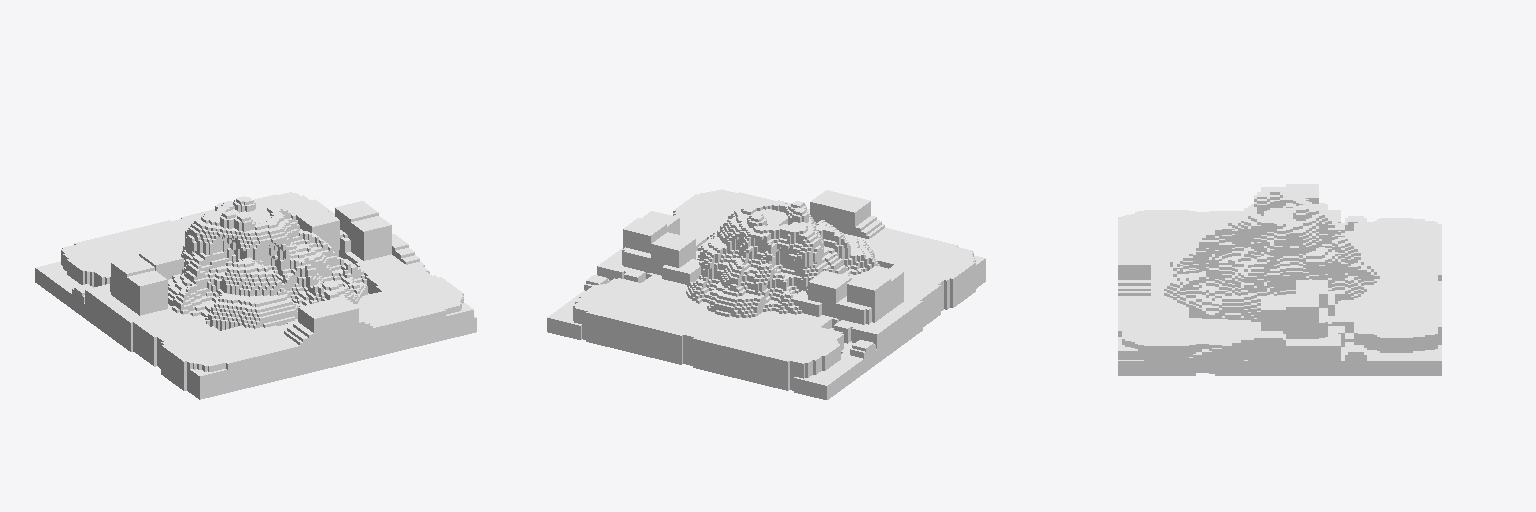
File: vulcano.obj
3 renders of one model, left to right at view 1: azimuth 30°, elevation 25°; view 2: azimuth 150°, elevation 25°; view 3: azimuth 270°, elevation 25°, orthographic.
Parts seen in each view (by area): view 1: object 1; view 2: object 1; view 3: object 1.
Part boxes in pixels (x1,y1,x2,y2): object 1: (35,192,476,399); object 1: (547,189,985,399); object 1: (1118,184,1441,375).
Size of the model in its own units: 10 by 3.5 by 10.